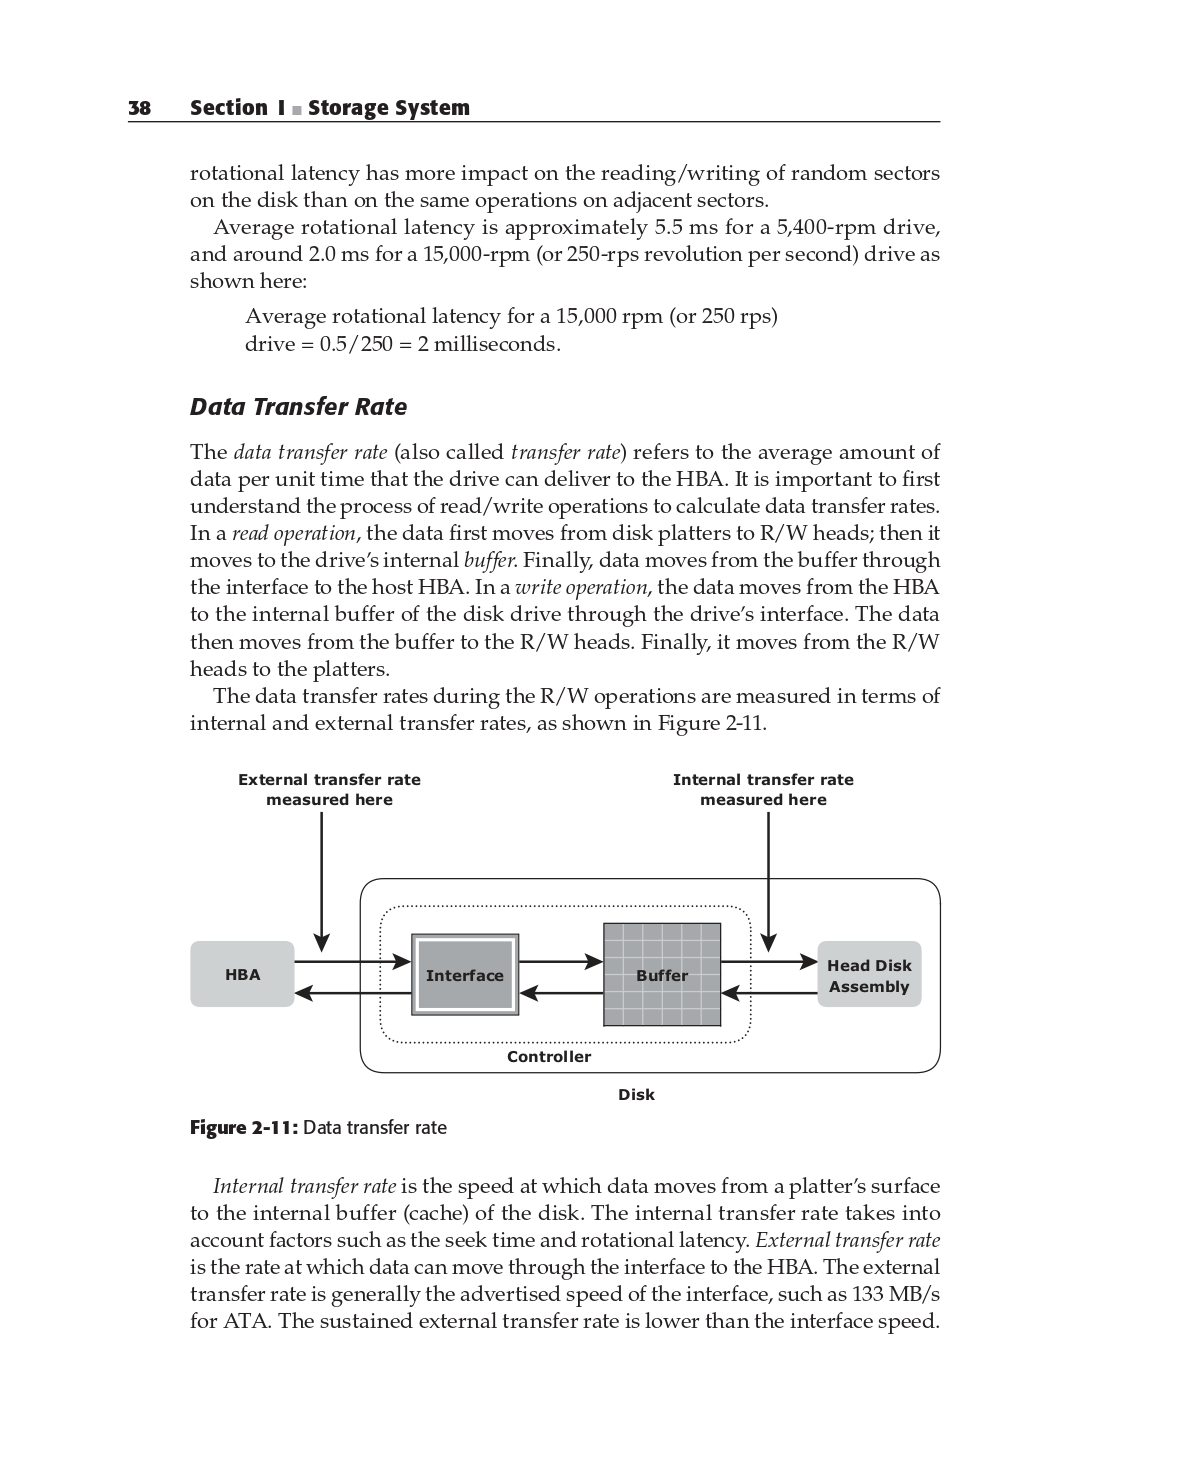Image: (176, 765, 972, 1101)
Paragraph: (184, 433, 949, 680), (172, 1174, 949, 1332), (181, 155, 952, 278), (184, 680, 947, 736), (230, 304, 800, 362), (172, 383, 435, 418), (190, 1113, 441, 1145)
